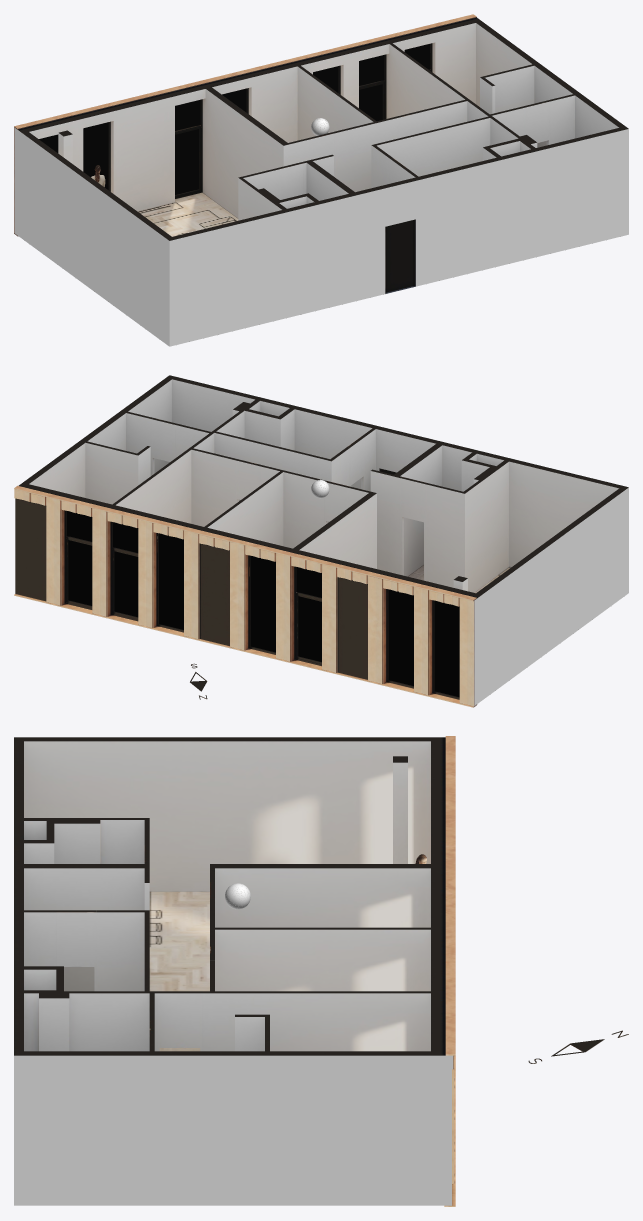
The picture shows the model from 3 angles, top to bottom: view 1: azimuth 30°, elevation 25°; view 2: azimuth 150°, elevation 25°; view 3: azimuth 270°, elevation 25°; orthographic projection. The views are drawn at different scales.
Visible parts, largest first — view 1: apt43, NO BAKE OUTER WALLS004, GLASS; view 2: apt43, NO BAKE OUTER WALLS004, GLASS; view 3: apt43, NO BAKE OUTER WALLS004.
Part boxes in pixels (<box>): apt43: <box>14,14,628,293</box>; NO BAKE OUTER WALLS004: <box>15,128,628,346</box>; GLASS: <box>39,44,429,194</box>; apt43: <box>14,375,628,707</box>; NO BAKE OUTER WALLS004: <box>474,487,628,705</box>; GLASS: <box>67,511,459,697</box>; apt43: <box>14,736,628,1206</box>; NO BAKE OUTER WALLS004: <box>14,1055,452,1205</box>.
Size of the model in its own units: 15 by 3.59 by 12.25.
4 materials, 1 textured.
